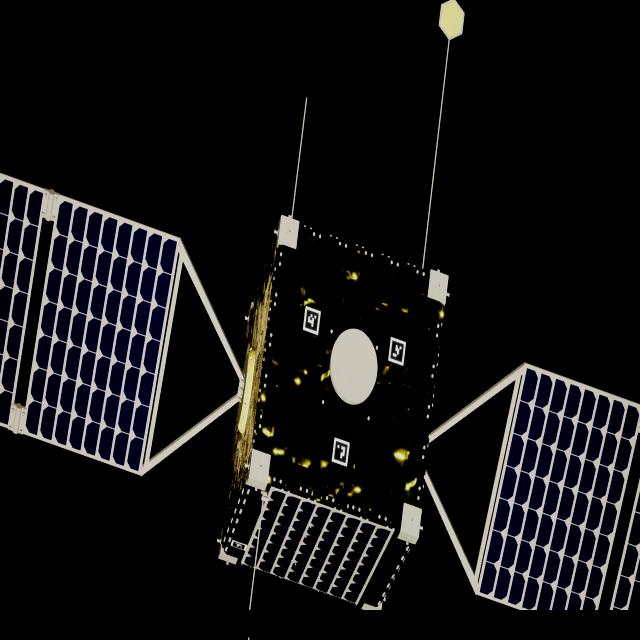satellite: (0, 173, 640, 625)
